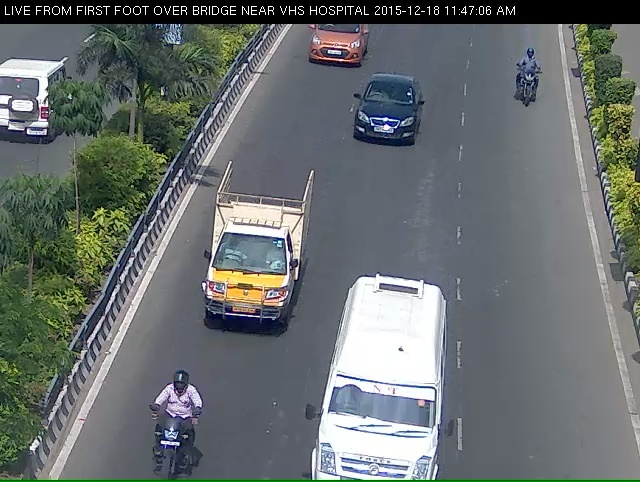Auto: (197, 178, 306, 361)
Bus: (315, 291, 453, 479)
Car: (350, 79, 420, 169), (300, 17, 367, 72)
Person: (140, 394, 193, 476), (505, 57, 548, 116)
